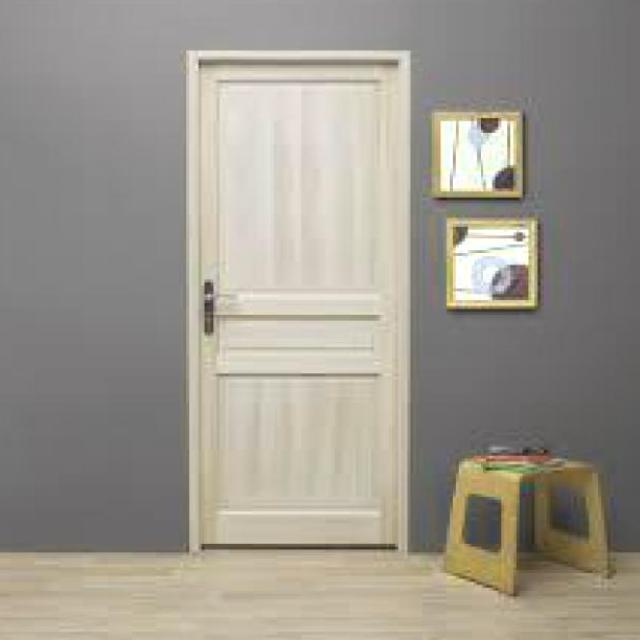door: (192, 51, 410, 551)
